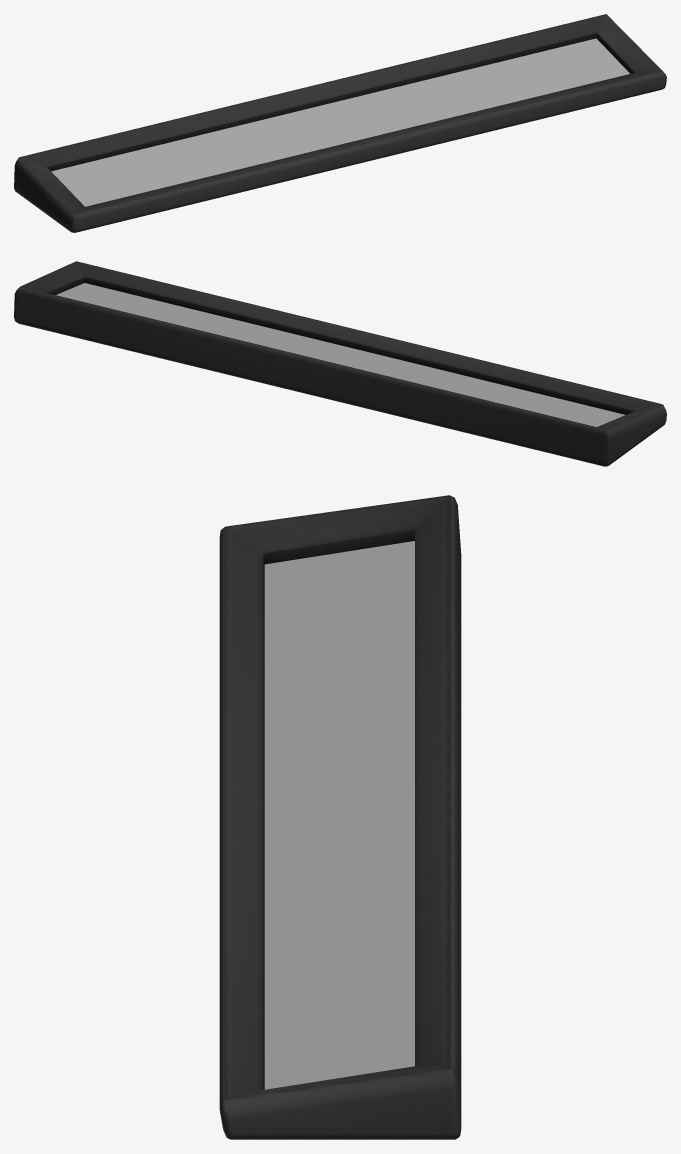
File: FL_Light.fbx
3 renders of one model, top to bottom at view 1: azimuth 30°, elevation 25°; view 2: azimuth 150°, elevation 25°; view 3: azimuth 270°, elevation 25°, orthographic. The views are drawn at different scales.
Parts seen in each view (by area): view 1: Floor_Light; view 2: Floor_Light; view 3: Floor_Light.
Boxes of the visible parts, x1,y1,x2,y2 form: Floor_Light: (14,14,666,232); Floor_Light: (14,261,666,466); Floor_Light: (219,495,461,1139).
Size of the model in its own units: 1.47 by 0.0851 by 0.2588.
2 materials, 1 textured.
